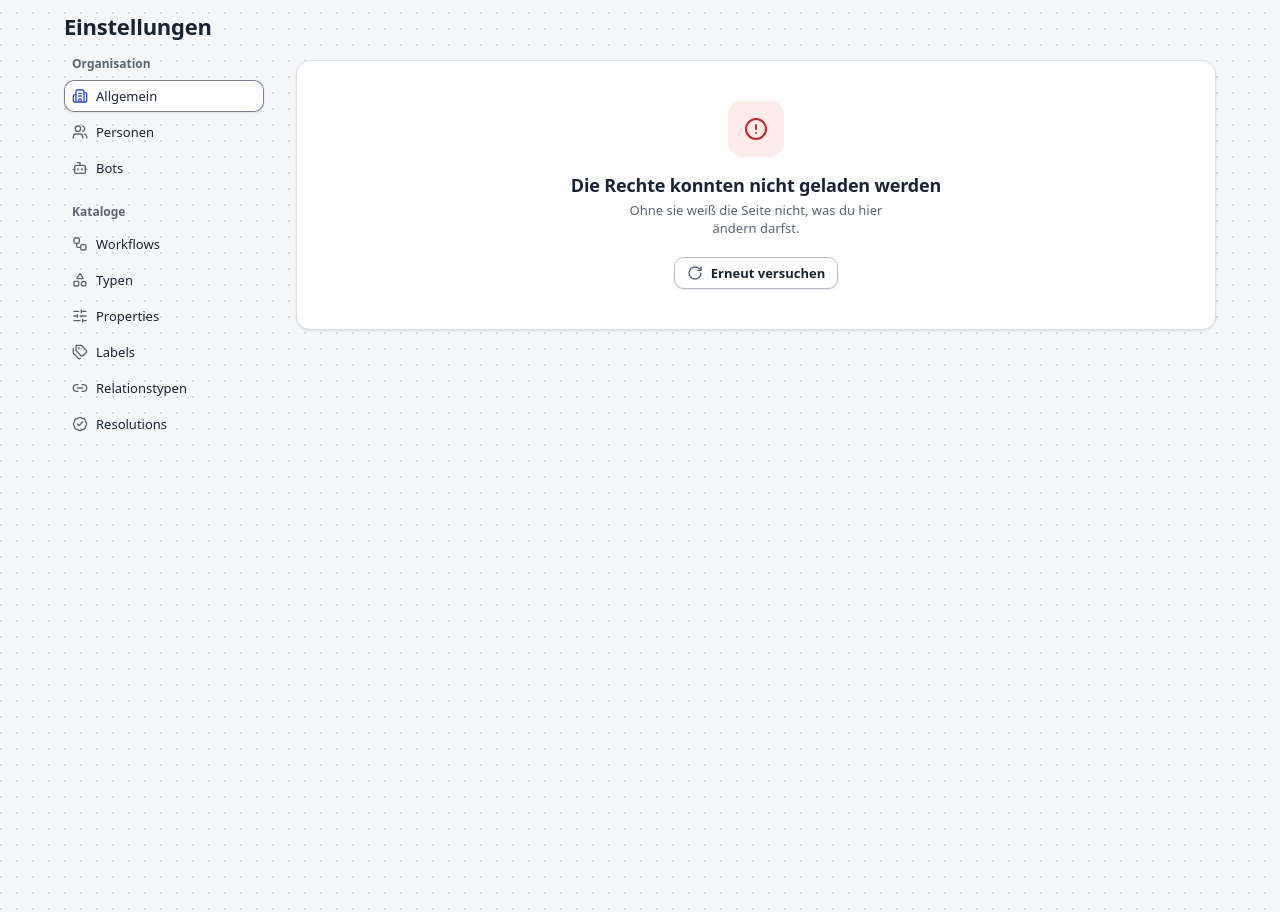
Test: OrgSettings › says when the rights could not be loaded, and loads the section once they can
Expected: the text "Die Rechte konnten nicht geladen werden" is shown, [571,173,941,197]
Click the button "Erneut versuchen" at coordinates (756, 273), box [674,257,838,289]
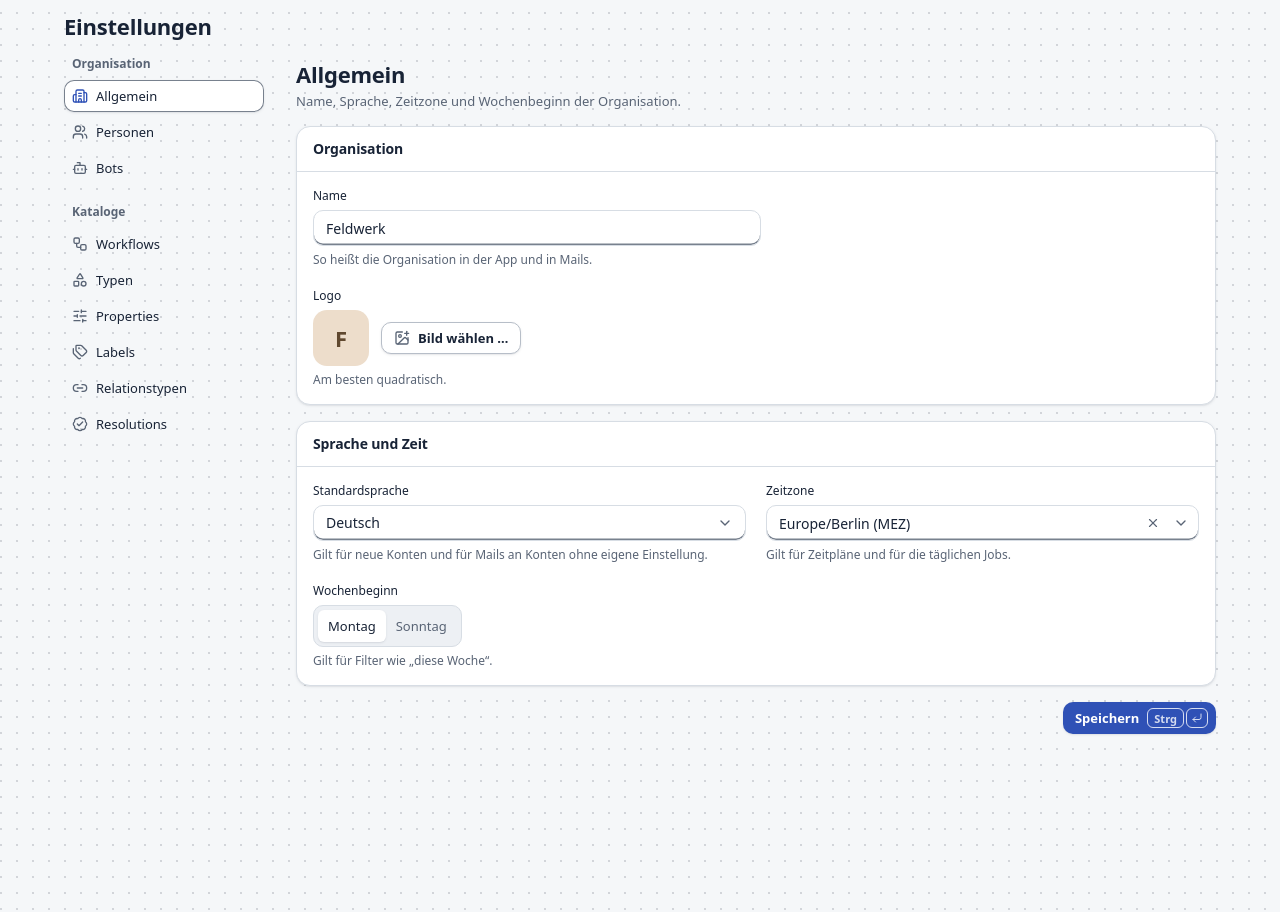
Now the field labelled "Name" is shown, box [313,210,761,246]
